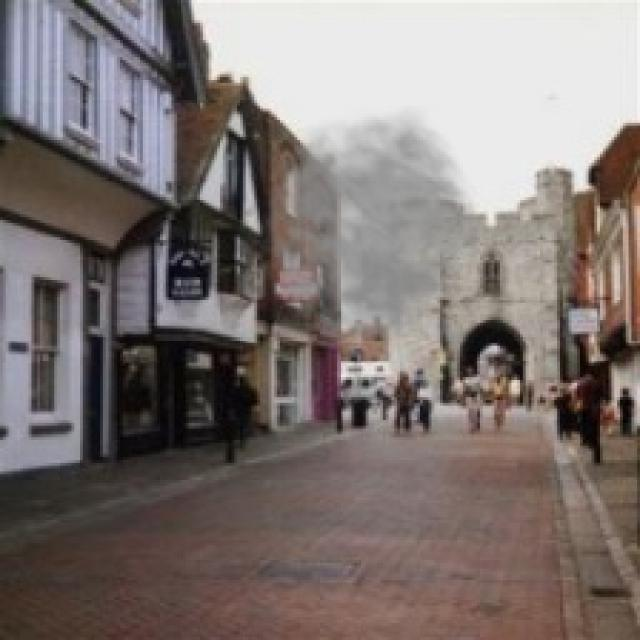Smoke: (243, 106, 483, 366)
